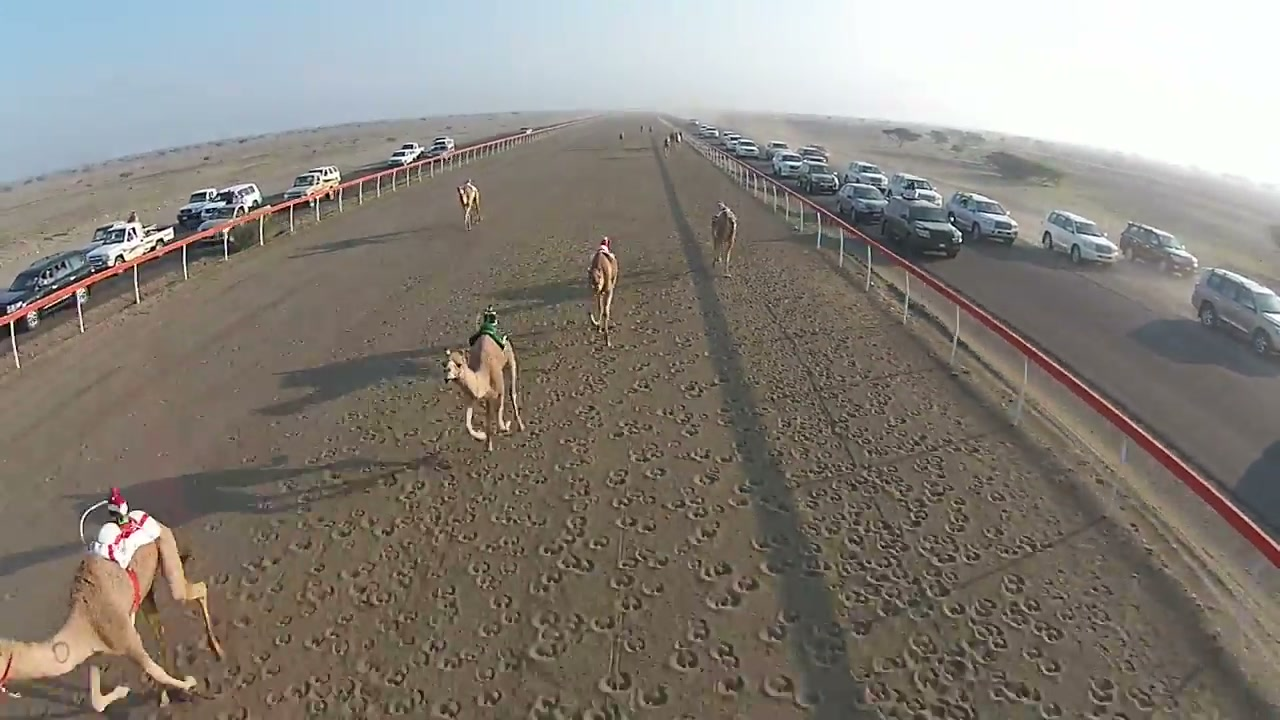animal_foot_print: (166, 162, 1248, 719)
